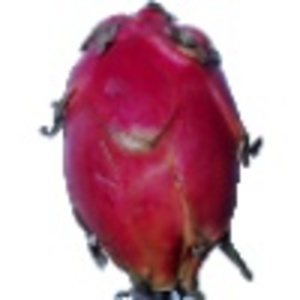pitaia: (39, 1, 264, 300)
